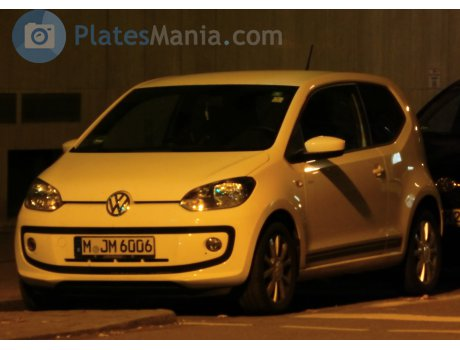License Plates: (76, 237, 154, 251)
